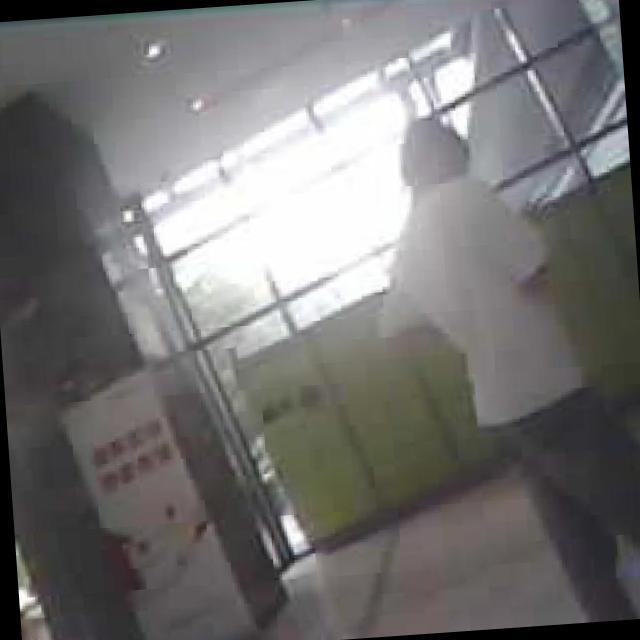person: (374, 102, 640, 633)
